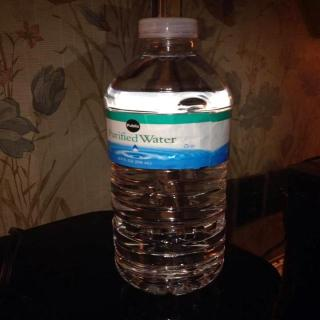Plastic-bottle: (98, 15, 238, 299)
